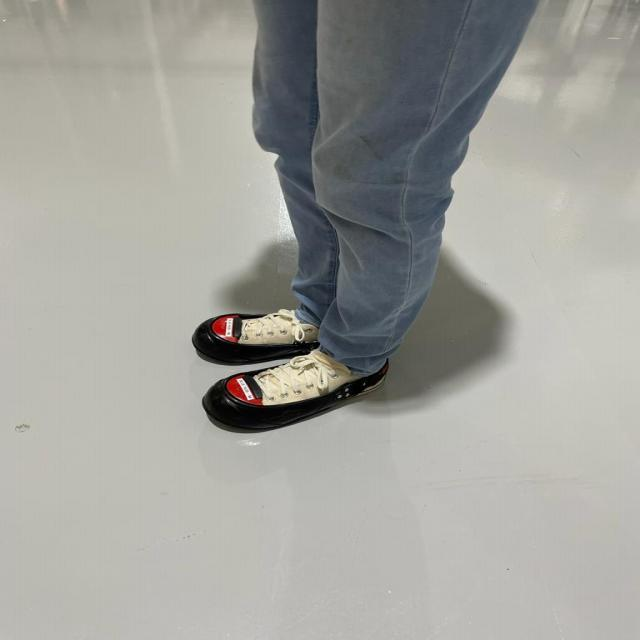shoes: (193, 357, 384, 438), (185, 304, 325, 362)
